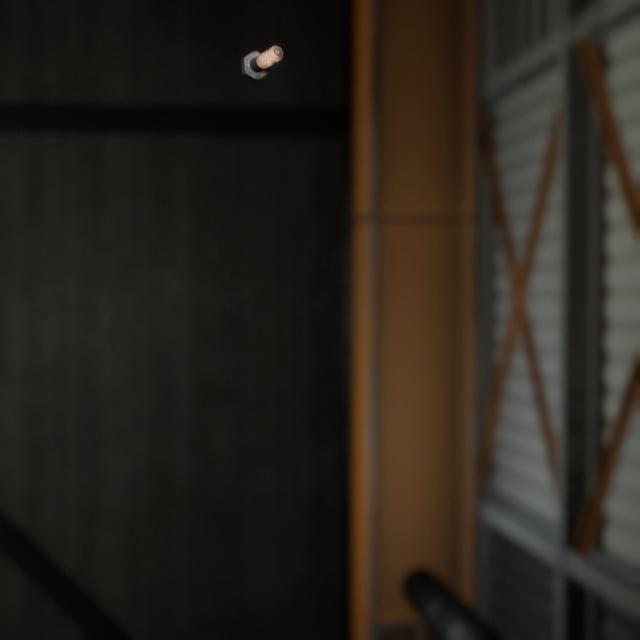bolt: (236, 30, 287, 75)
